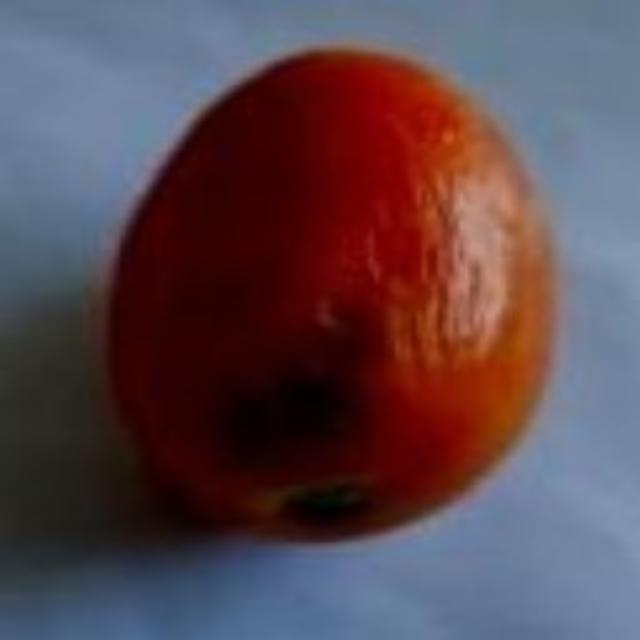defect: (97, 42, 564, 553)
